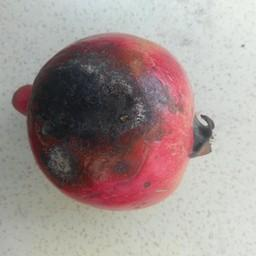Bad_pomegranate: (10, 27, 218, 212)
